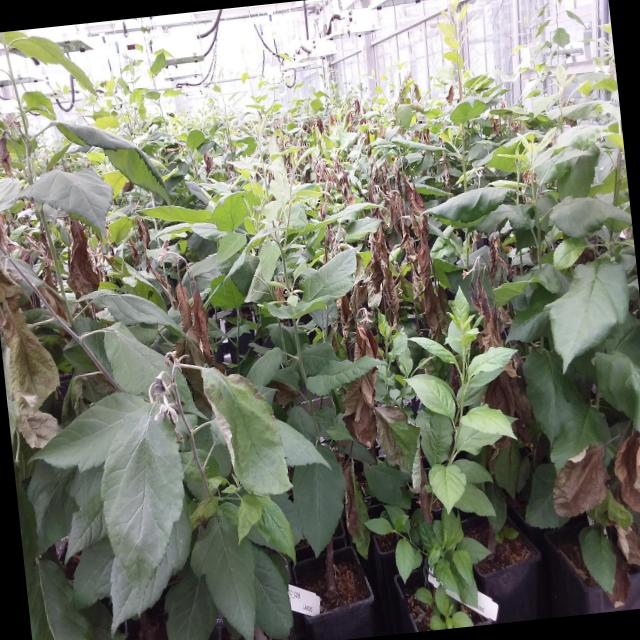-FireBlight-: (336, 156, 448, 359), (545, 425, 640, 581), (459, 227, 515, 348), (162, 252, 210, 354), (65, 218, 106, 300), (342, 367, 377, 447), (313, 150, 359, 204)
